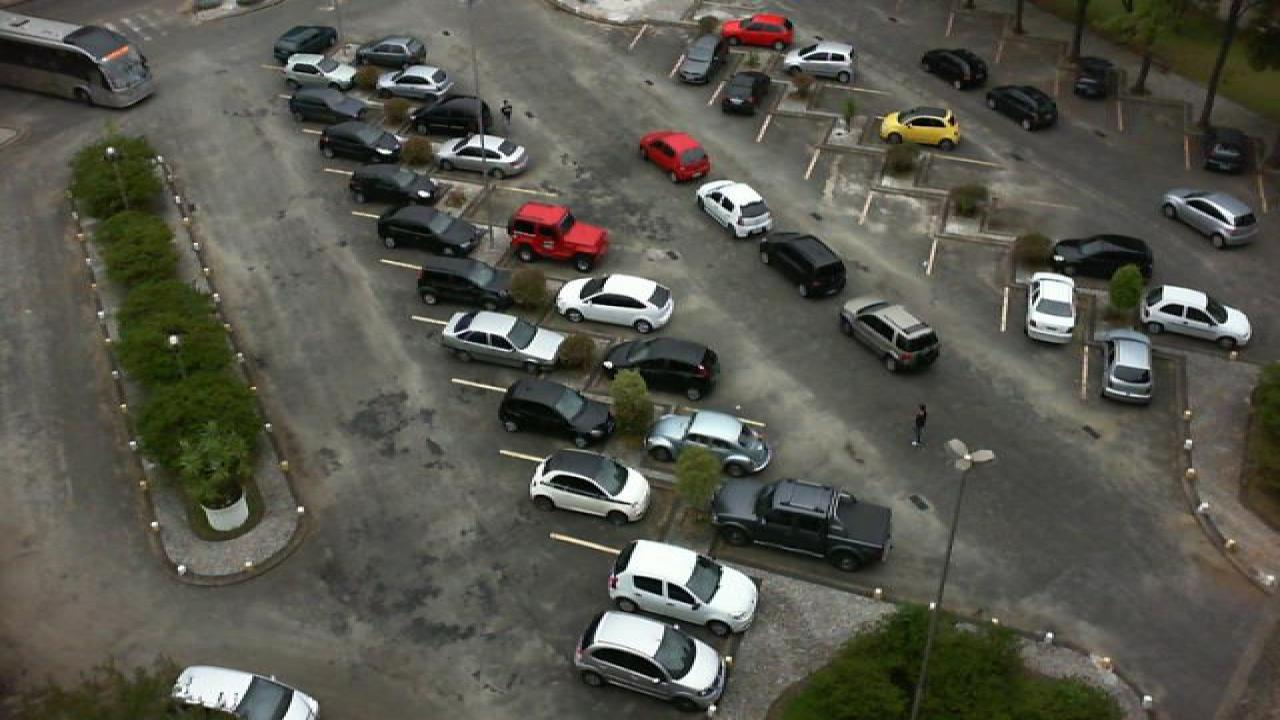Car: (710, 477, 896, 574), (574, 606, 734, 714), (606, 537, 764, 639), (644, 407, 774, 478), (528, 449, 652, 523), (496, 378, 616, 450), (170, 664, 324, 720), (440, 310, 568, 372), (838, 300, 944, 374), (1138, 285, 1256, 351), (502, 202, 610, 274), (552, 272, 676, 334), (604, 336, 720, 400), (416, 255, 520, 313), (1160, 189, 1260, 249), (758, 232, 846, 299), (376, 205, 482, 259), (1048, 234, 1154, 287), (694, 179, 776, 241), (430, 134, 528, 179), (1100, 329, 1156, 405), (1024, 271, 1080, 344), (348, 164, 440, 207), (636, 130, 712, 182), (982, 83, 1058, 133), (318, 118, 404, 162), (876, 107, 962, 151), (374, 64, 462, 102), (288, 85, 370, 125), (406, 97, 488, 137), (714, 12, 798, 50), (280, 53, 360, 92), (920, 47, 990, 91), (1200, 126, 1260, 177), (780, 43, 854, 83), (672, 31, 724, 86), (354, 36, 428, 71), (274, 24, 342, 61), (1070, 54, 1120, 99), (720, 70, 766, 116)
